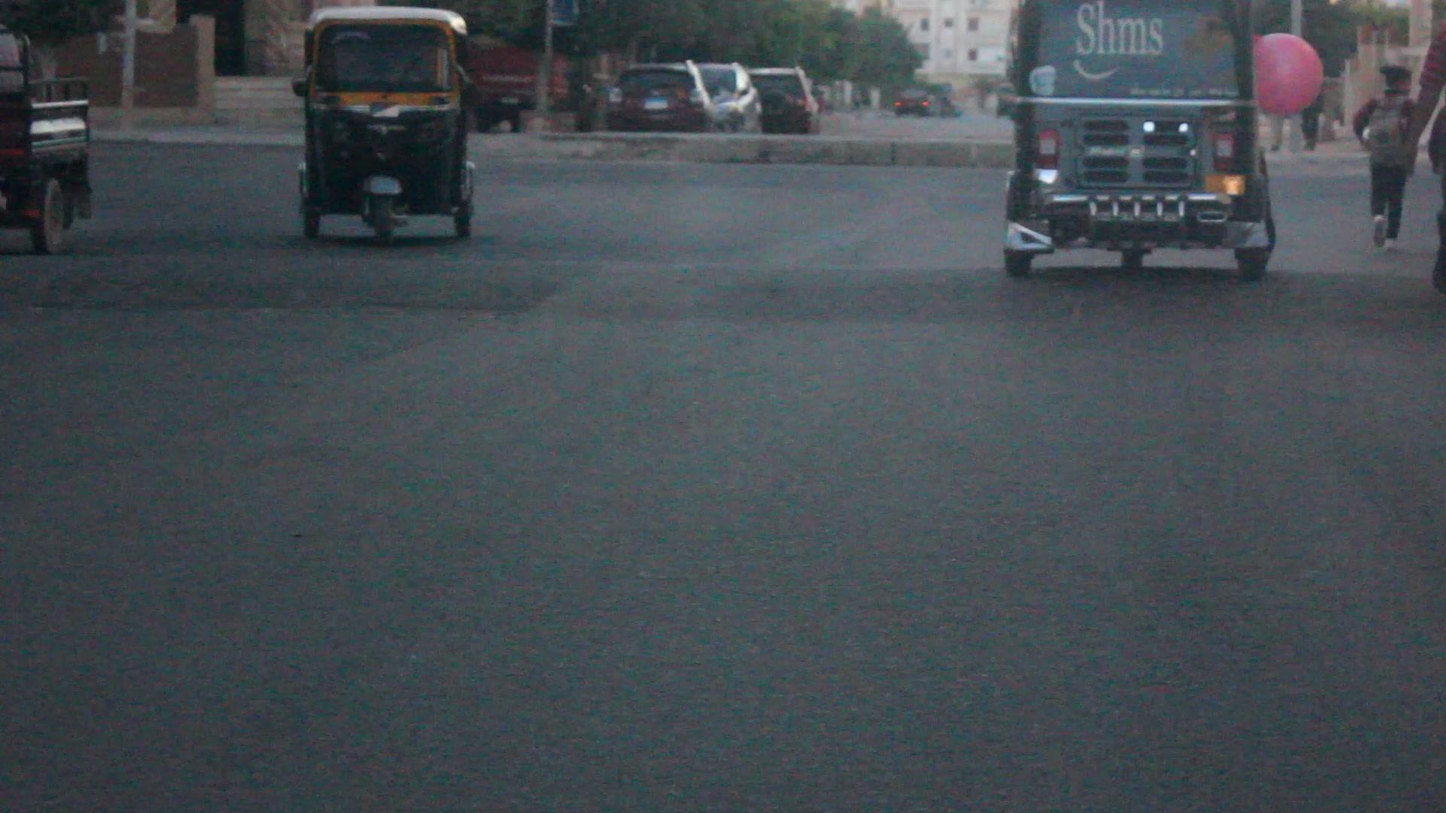Bump: (0, 239, 1446, 333)
